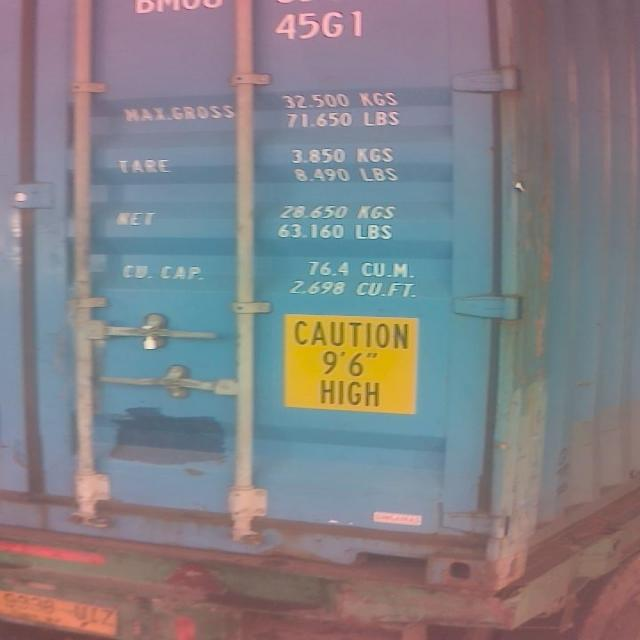seal: (141, 324, 157, 349)
